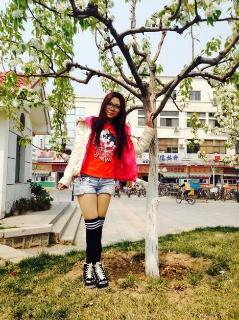short sleeve top: (76, 117, 130, 178)
shorts: (73, 167, 116, 196)
